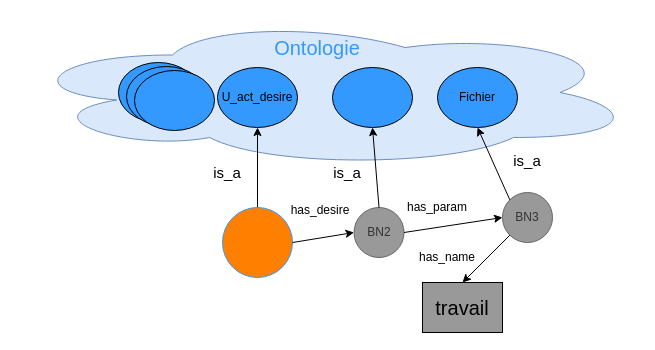
Image size: 655x350. Some labels were removed from this diagram. Each missing label, with the centre of its shape:
"BN" goes at (x=257, y=242).
"Create_file" goes at (x=372, y=97).
